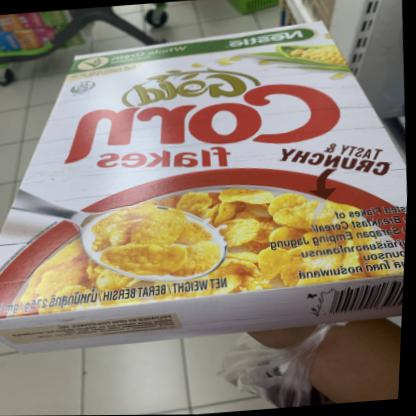cereal box: (0, 9, 415, 362)
